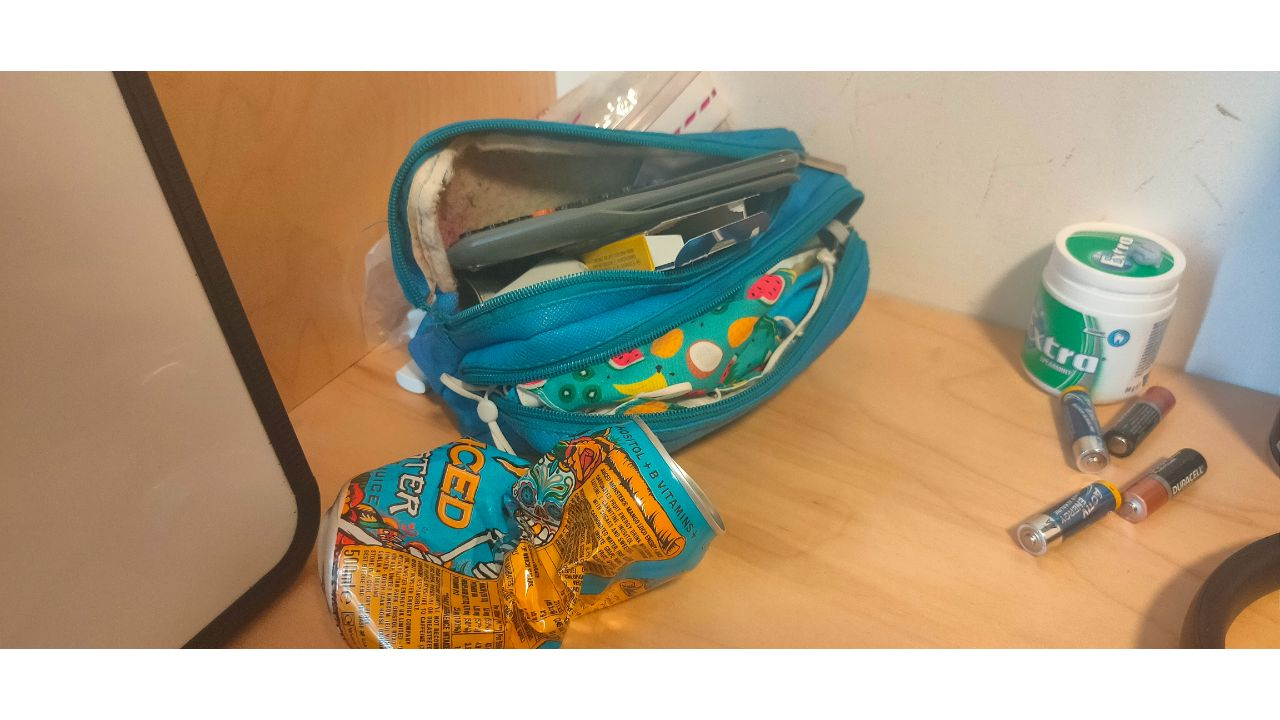Can: (315, 415, 724, 650)
